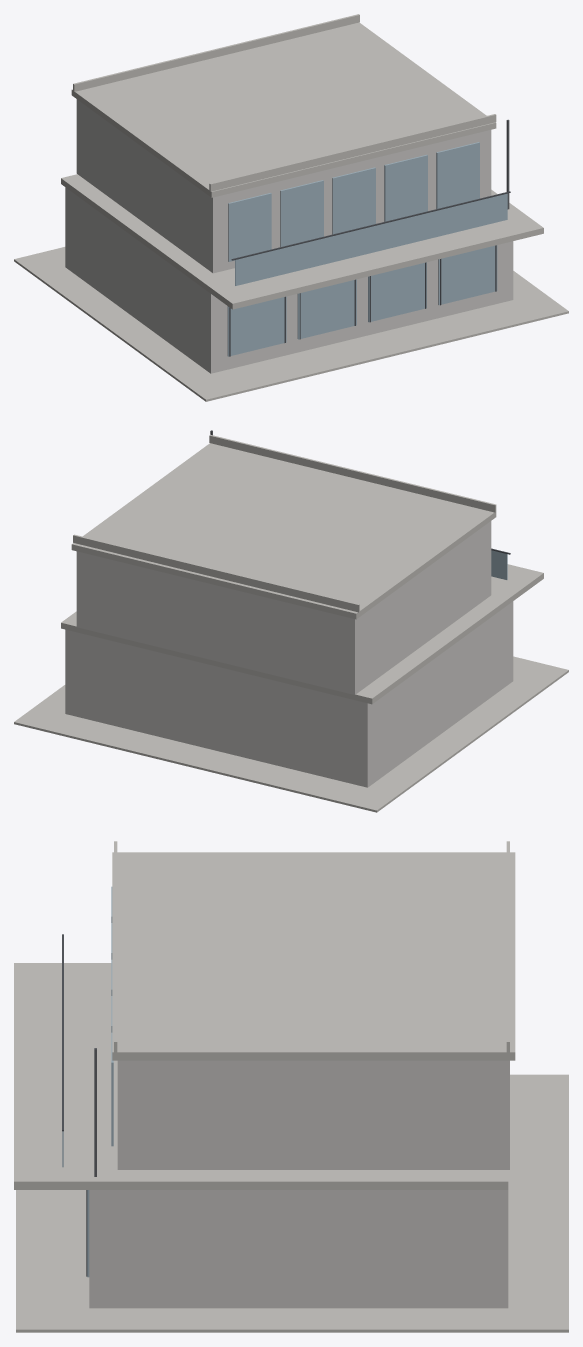
File: contemporary-family.glb
The picture shows the model from 3 angles, top to bottom: view 1: azimuth 30°, elevation 25°; view 2: azimuth 150°, elevation 25°; view 3: azimuth 270°, elevation 25°; orthographic projection. The views are drawn at different scales.
Parts seen in each view (by area): view 1: House; view 2: House; view 3: House.
Boxes of the visible parts, x1,y1,x2,y2 form: House: (14,14,568,401); House: (14,430,568,812); House: (14,841,568,1332).
Bounding box in the file's own units: 14.4 × 6.94 × 13.25.
